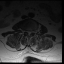CCS_normal: (28, 29, 30, 37)
LFS_stenosis: (32, 29, 33, 35)
LLS_stenosis: (30, 29, 31, 35)
RFS_stenosis: (25, 29, 26, 35)
RLS_stenosis: (26, 29, 28, 35)
